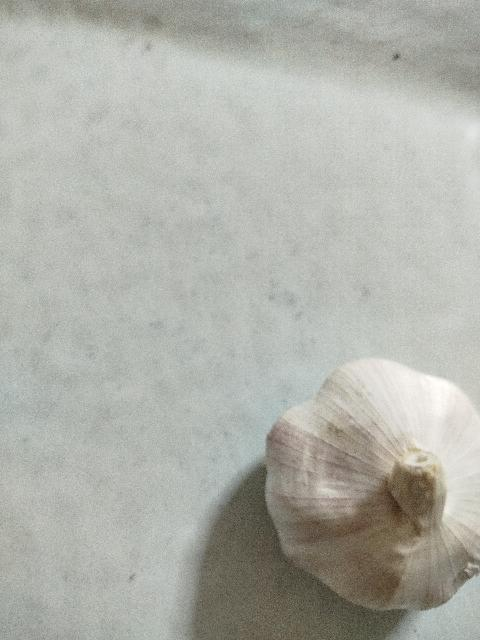garlic: (263, 356, 479, 612)
